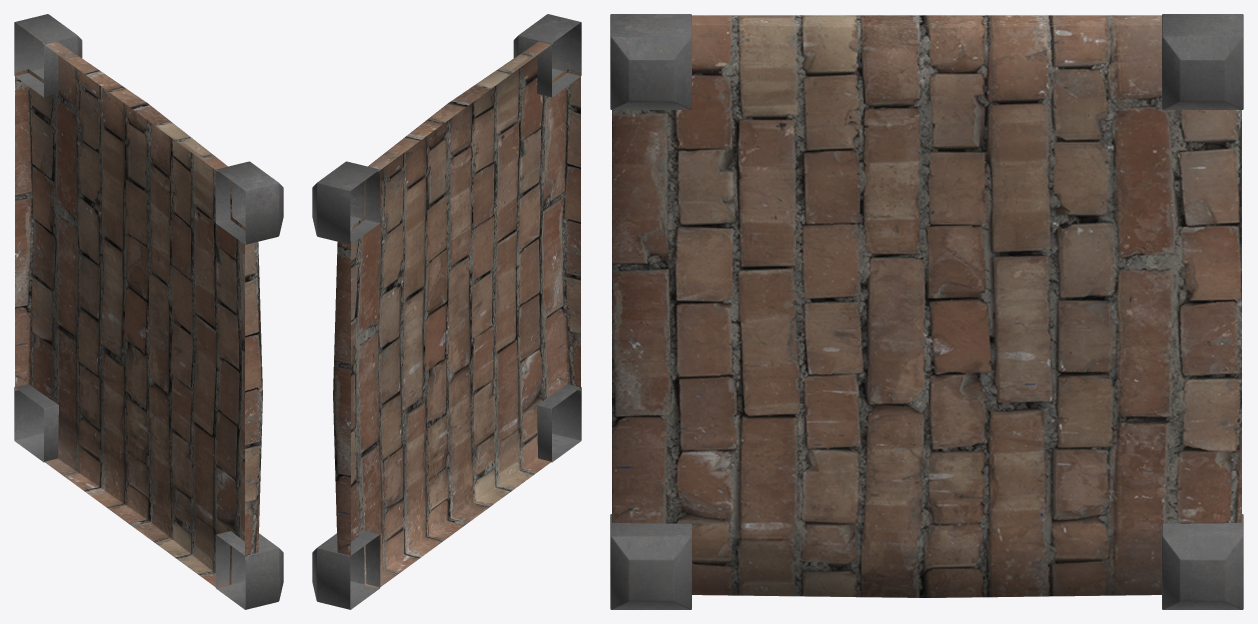
Rendered from cP_Pathway01_Intersection.dae.
3 views of the same model, side by side, from view 1: azimuth 30°, elevation 25°; view 2: azimuth 150°, elevation 25°; view 3: azimuth 270°, elevation 25° (orthographic). The views are drawn at different scales.
Visible parts, largest first — view 1: cP_Pathway01_Intersection.001; view 2: cP_Pathway01_Intersection.001; view 3: cP_Pathway01_Intersection.001.
Part boxes in pixels (box(x1,y1,x2,y2)): cP_Pathway01_Intersection.001: box(14, 14, 283, 609); cP_Pathway01_Intersection.001: box(312, 14, 581, 609); cP_Pathway01_Intersection.001: box(610, 14, 1243, 609).
Bounding box in the file's own units: 0.2252 × 2.01 × 2.01.
